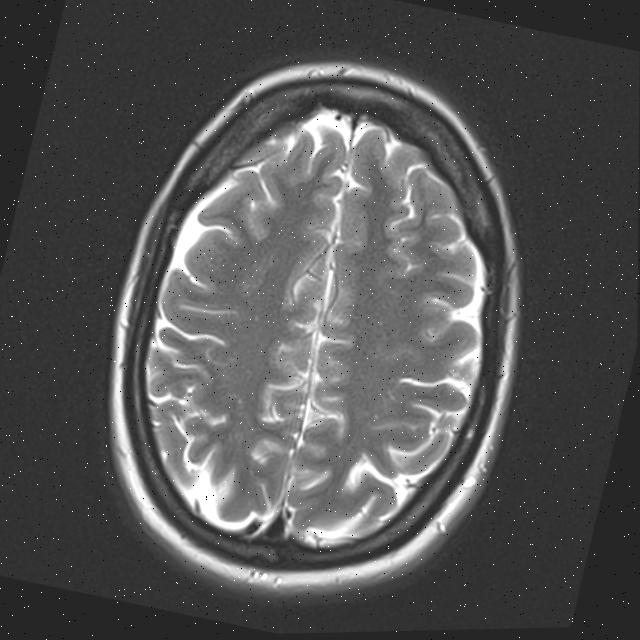NoTumor: (59, 18, 577, 633)
